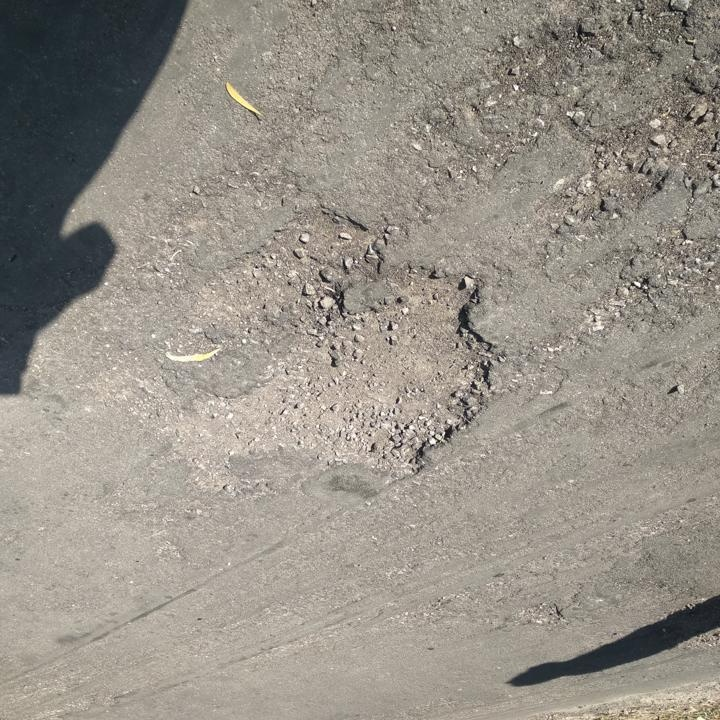pothole: (133, 204, 503, 497)
